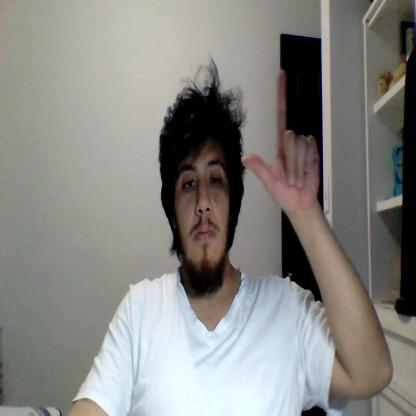L: (242, 70, 319, 208)
